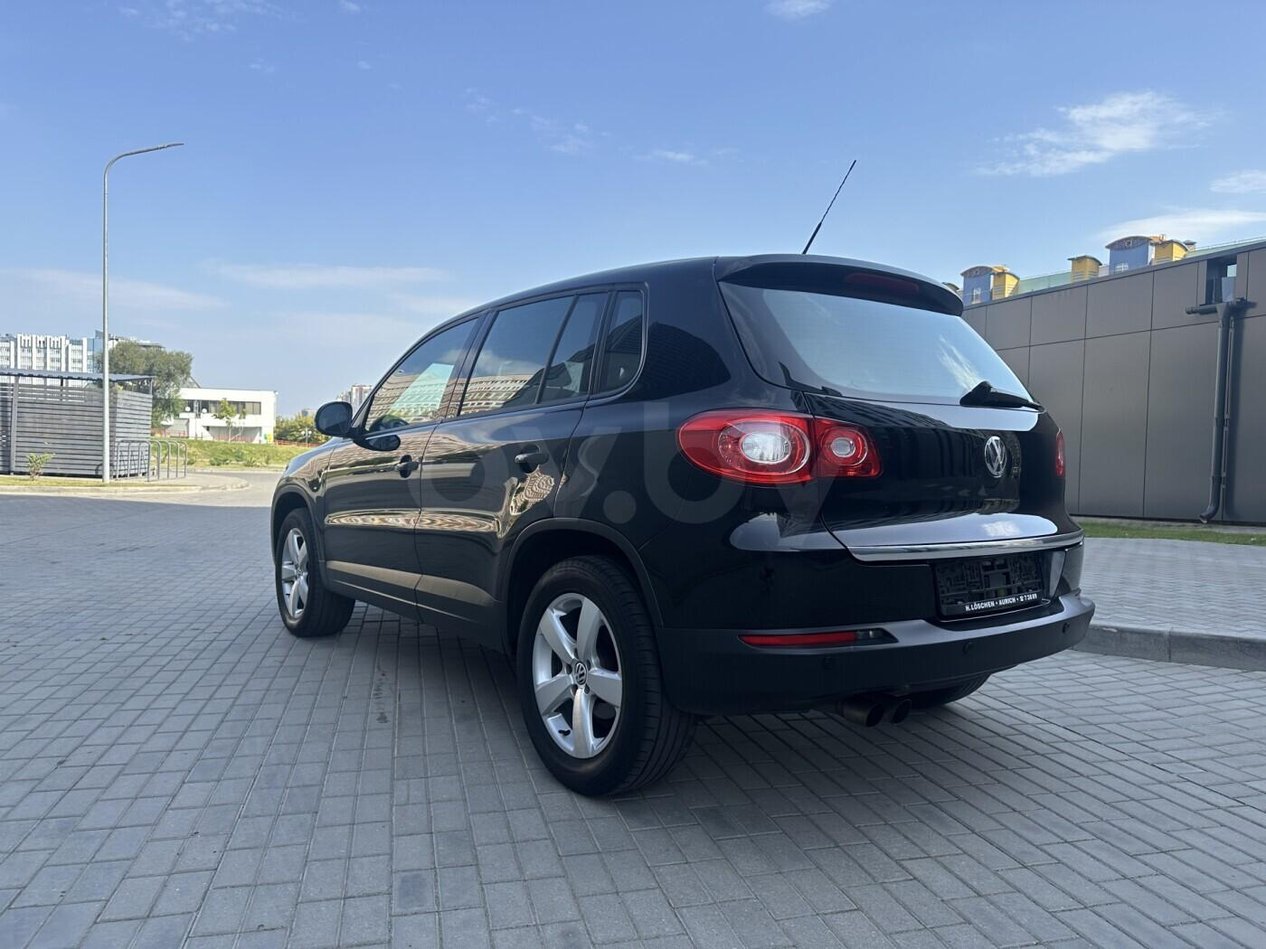Tiguan_2007-2011: (267, 250, 1098, 808)
